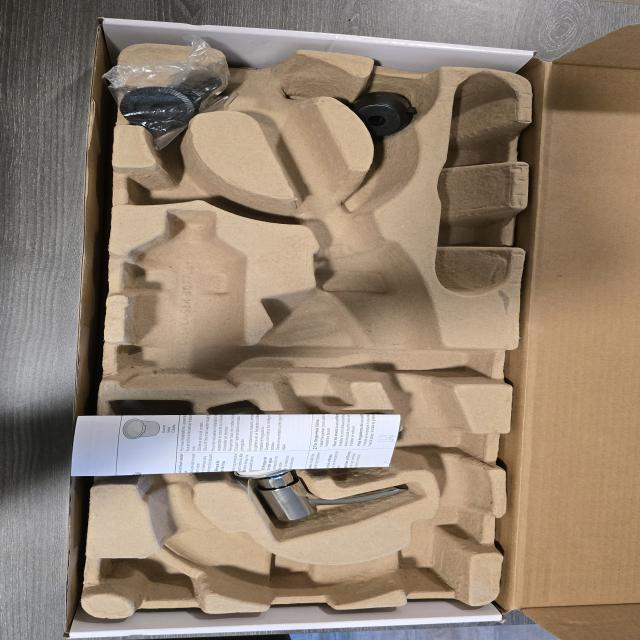1m: (109, 50, 488, 601)
2o: (211, 401, 408, 522)
3m: (127, 210, 246, 387)
4m: (436, 73, 521, 296)
5: (353, 92, 417, 140)
6m: (126, 154, 252, 211)
7: (103, 36, 231, 150)
8: (69, 414, 399, 477)
